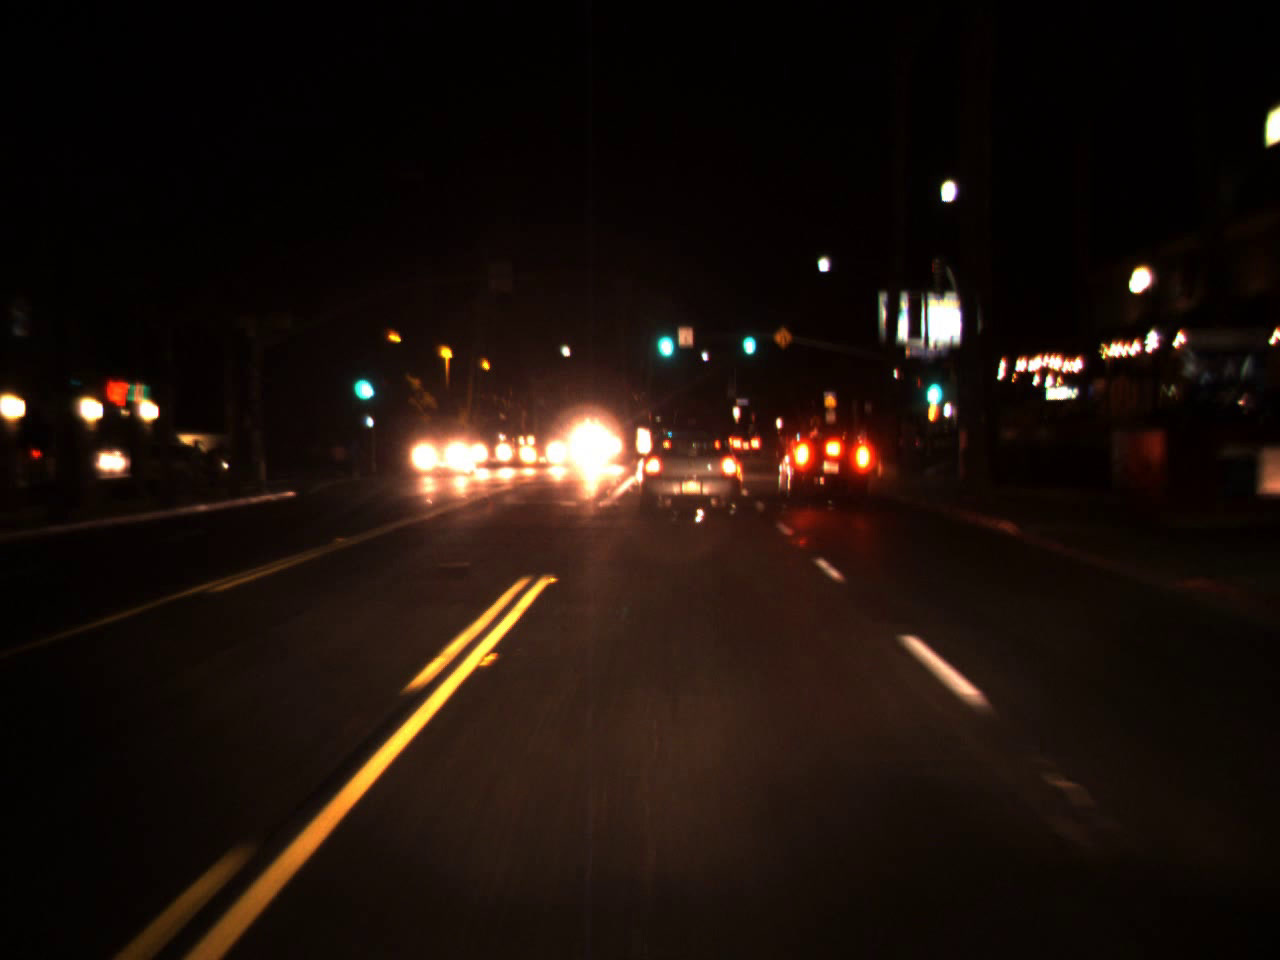go: (346, 351, 376, 408), (650, 308, 677, 365), (920, 358, 945, 412), (738, 318, 757, 357)
